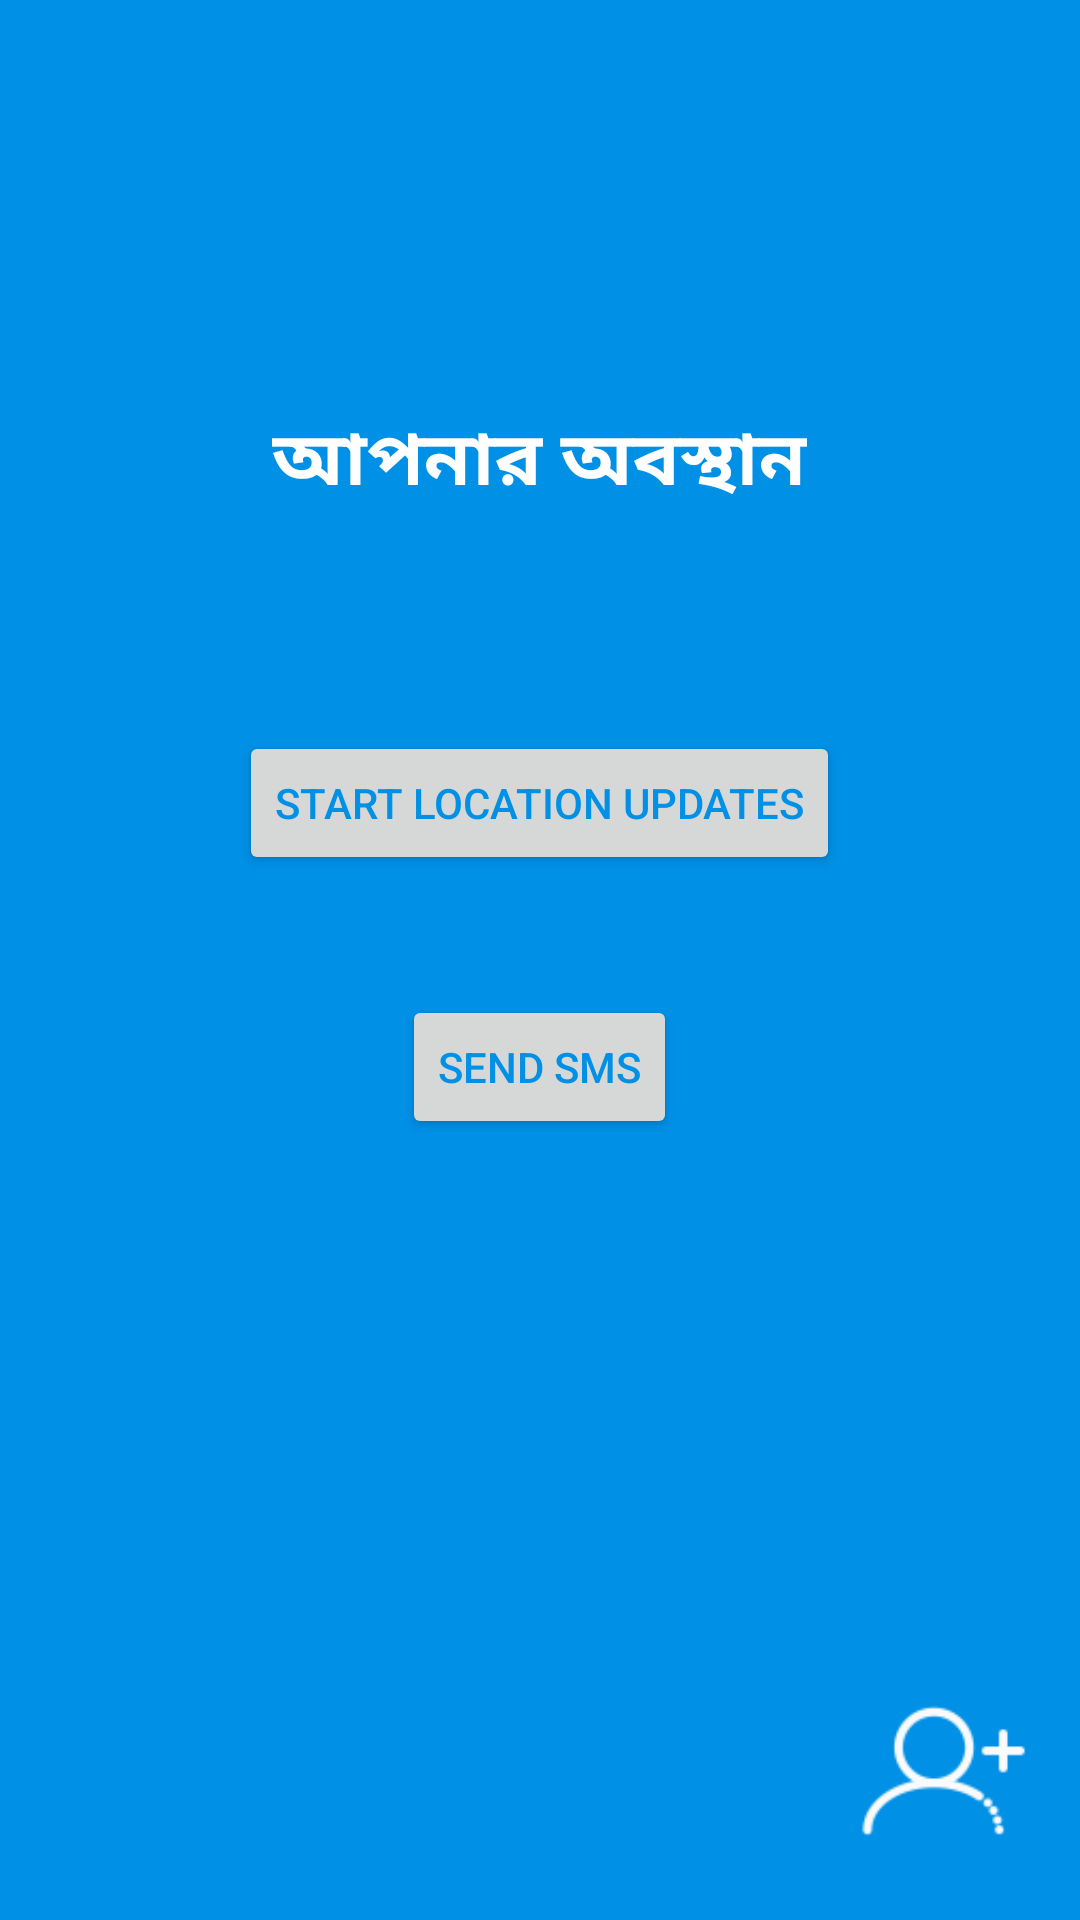

Named icons in this screenshot (1080px×1920px) and their bounding boxes, (x1, y1, x2, y2):
add: (862, 1706, 1025, 1836)
